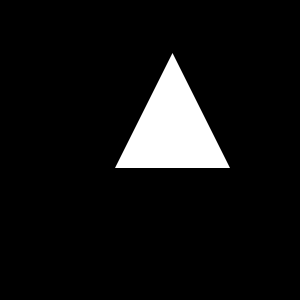triangle: (115, 53, 230, 168)
